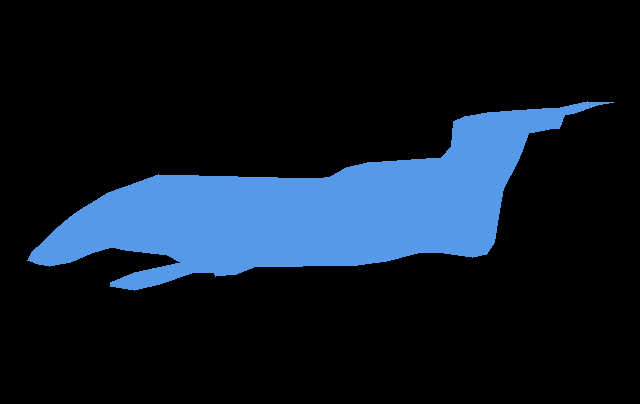Airplane: (27, 101, 614, 290)
